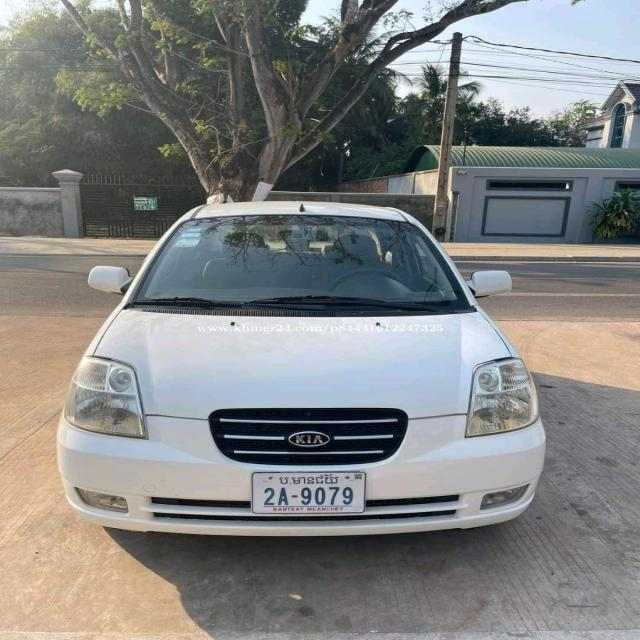Banteay_Meanchey: (279, 472, 340, 487)
